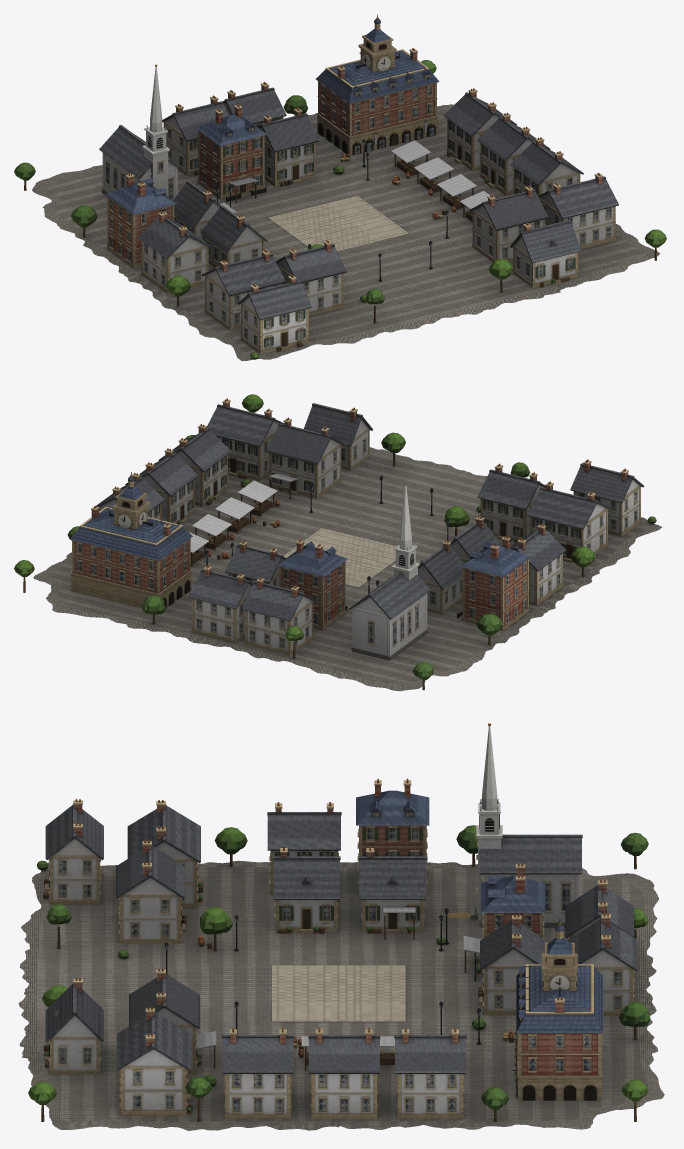
File: gunpowder-town-medium-a-colonies-ac064972.glb
3 renders of one model, top to bottom at view 1: azimuth 30°, elevation 25°; view 2: azimuth 150°, elevation 25°; view 3: azimuth 270°, elevation 25°, orthographic. The views are drawn at different scales.
Parts seen in each view (by area): view 1: LOD0; view 2: LOD0; view 3: LOD0.
Boxes of the visible parts, <box> form: LOD0: <box>14,14,666,361</box>; LOD0: <box>14,394,662,691</box>; LOD0: <box>18,723,664,1130</box>.
Size of what is drawn, in the model's own units: 6.03 by 2 by 6.09.
Materials: 3 (3 with a texture image).
